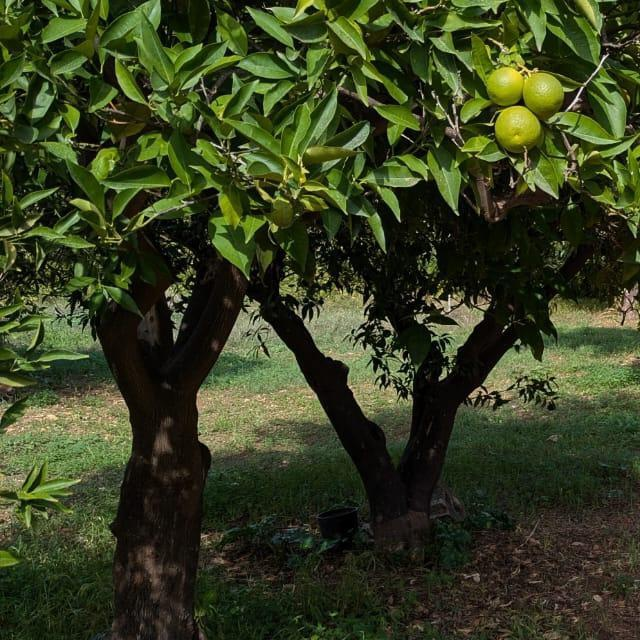orange: (494, 105, 544, 155), (523, 72, 563, 118), (486, 66, 524, 106), (638, 331, 640, 357), (639, 38, 640, 70)
